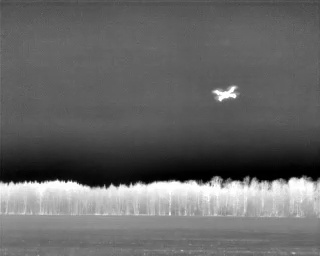DRONE: (209, 81, 243, 106)
